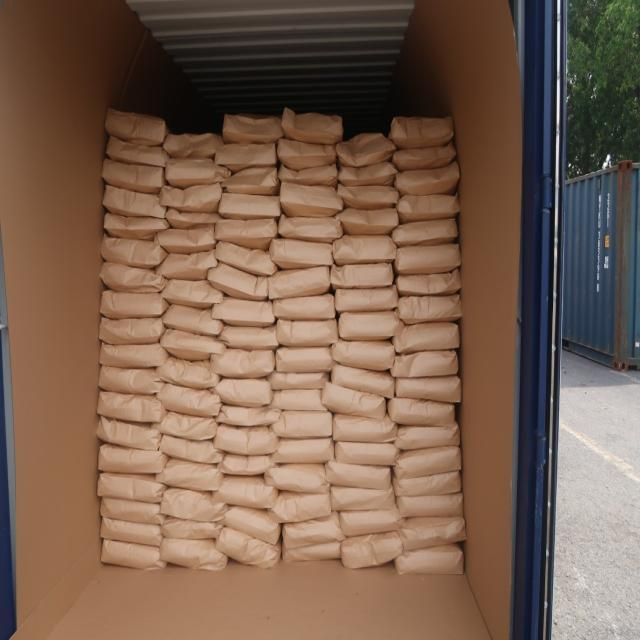gunny_bag: (216, 527, 282, 570), (206, 262, 272, 302), (398, 514, 468, 551), (320, 382, 388, 420), (157, 536, 227, 572), (217, 505, 280, 545), (392, 446, 462, 481), (340, 530, 404, 568), (213, 474, 280, 510), (154, 382, 221, 418), (96, 417, 164, 452), (159, 487, 227, 522), (281, 109, 345, 146), (106, 110, 170, 147), (387, 116, 455, 150), (282, 511, 344, 548), (100, 261, 168, 294), (266, 265, 330, 300), (98, 442, 168, 474), (394, 543, 464, 575), (153, 460, 223, 492), (280, 182, 344, 217), (215, 241, 278, 276), (334, 131, 395, 167), (394, 162, 460, 195), (330, 338, 396, 371), (102, 186, 168, 219), (101, 161, 167, 194), (267, 237, 333, 270), (394, 244, 462, 276), (98, 392, 166, 424), (101, 235, 168, 267), (213, 426, 280, 458), (392, 322, 459, 354), (336, 309, 403, 341), (331, 234, 398, 266), (160, 329, 227, 361), (210, 346, 276, 378), (331, 363, 395, 396), (264, 462, 330, 494), (101, 540, 167, 572), (324, 460, 392, 491), (97, 473, 167, 503), (155, 358, 220, 390), (389, 397, 458, 427), (164, 158, 228, 190), (214, 217, 278, 249), (210, 297, 276, 328), (392, 218, 460, 248), (100, 288, 168, 318), (160, 304, 223, 336), (106, 137, 171, 168), (395, 294, 462, 324), (156, 436, 223, 466), (268, 492, 330, 524), (277, 138, 339, 170), (99, 365, 165, 395), (152, 412, 218, 442), (332, 412, 398, 442), (391, 349, 459, 378), (392, 470, 462, 498), (154, 251, 218, 281), (333, 206, 399, 235), (100, 316, 166, 345), (338, 509, 404, 538), (276, 216, 344, 244), (394, 268, 462, 296), (160, 278, 223, 308), (101, 516, 164, 546), (393, 424, 460, 452), (99, 496, 166, 524), (100, 341, 169, 368), (393, 375, 462, 402), (270, 410, 332, 440), (210, 378, 272, 408), (222, 114, 282, 145), (158, 184, 222, 213), (396, 491, 464, 518), (333, 286, 398, 314), (395, 195, 460, 223), (269, 437, 336, 464), (218, 166, 280, 195), (218, 192, 282, 220), (104, 212, 168, 240), (214, 144, 278, 172), (272, 294, 338, 321), (277, 320, 339, 348), (155, 227, 217, 255), (330, 263, 394, 290), (391, 146, 457, 172), (332, 441, 400, 466), (328, 486, 393, 512), (275, 346, 335, 374), (216, 324, 278, 350), (163, 132, 224, 158), (338, 162, 398, 188), (336, 186, 398, 210), (216, 406, 282, 428), (215, 453, 278, 476), (160, 518, 223, 541), (269, 388, 330, 411), (278, 165, 338, 188), (164, 207, 222, 230), (282, 541, 340, 563), (268, 371, 330, 391)
